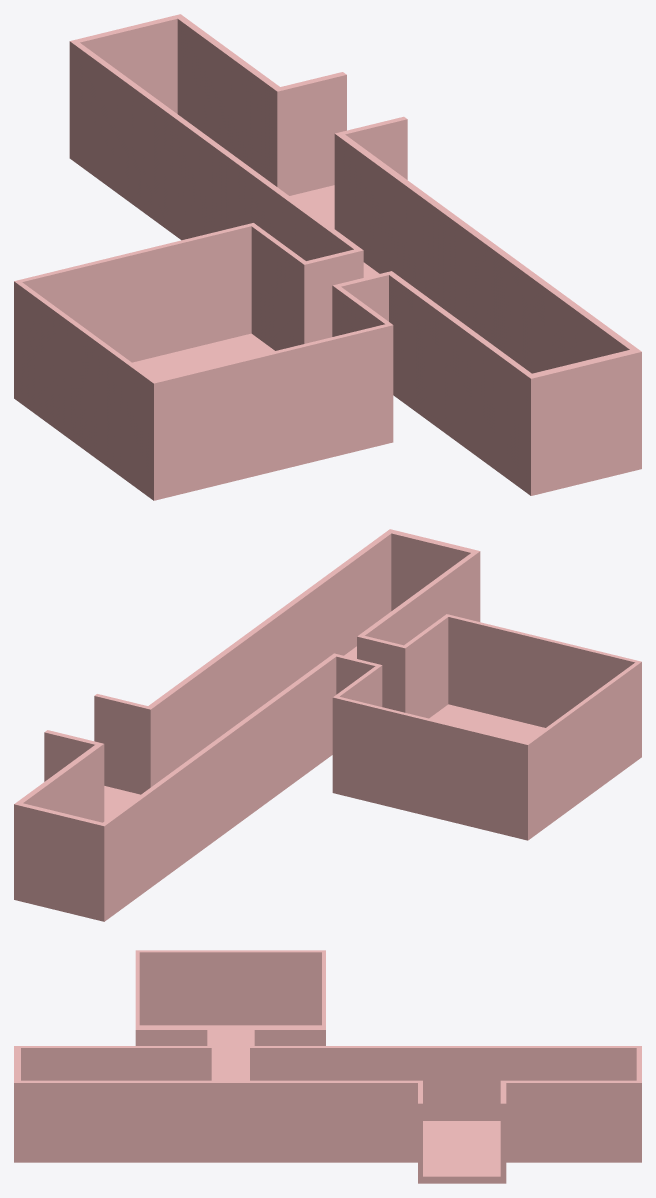
Rendered from Dorm Hallway.fbx.
The picture shows the model from 3 angles, top to bottom: view 1: azimuth 30°, elevation 25°; view 2: azimuth 150°, elevation 25°; view 3: azimuth 270°, elevation 25°; orthographic projection. The views are drawn at different scales.
Parts seen in each view (by area): view 1: DormHallway; view 2: DormHallway; view 3: DormHallway.
Boxes of the visible parts, x1,y1,x2,y2 form: DormHallway: (14,14,641,500); DormHallway: (14,529,641,921); DormHallway: (14,950,641,1183).
Size of the model in its own units: 48.37 by 11.75 by 83.8.
